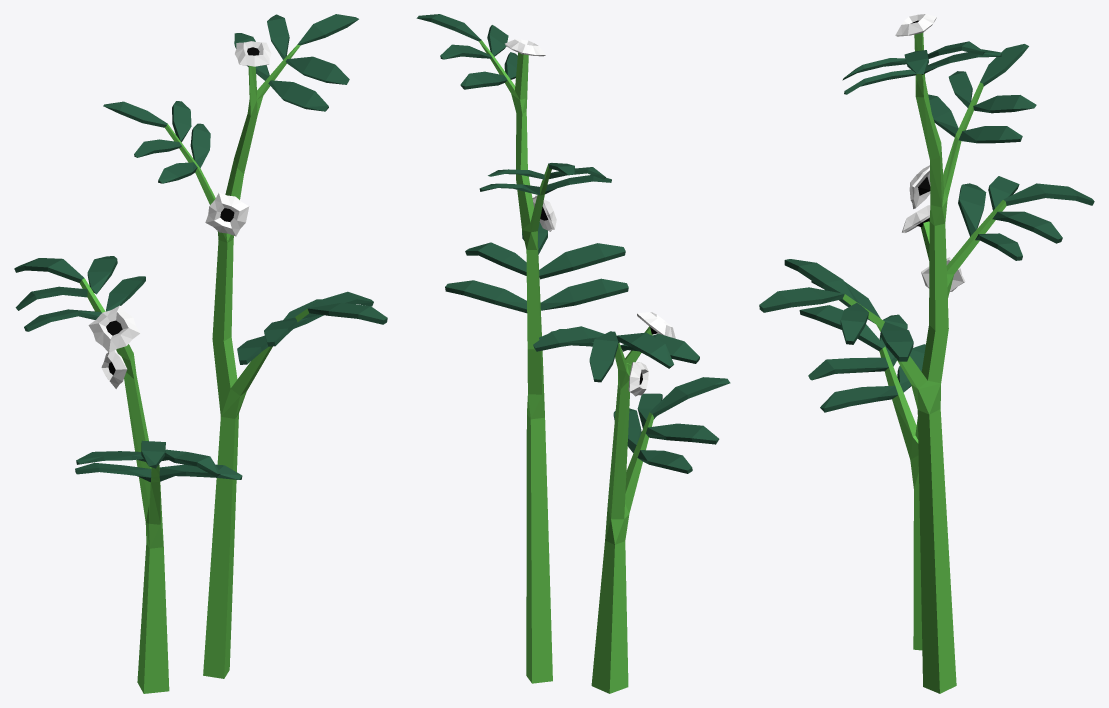
The model's file is Pootato_Growing_M.fbx.
The picture shows the model from 3 angles, left to right: view 1: azimuth 30°, elevation 25°; view 2: azimuth 150°, elevation 25°; view 3: azimuth 270°, elevation 25°; orthographic projection. The views are drawn at different scales.
Parts seen in each view (by area): view 1: Pootato_Growing_M; view 2: Pootato_Growing_M; view 3: Pootato_Growing_M.
Part boxes in pixels (x1,y1,x2,y2): Pootato_Growing_M: (14, 14, 387, 693); Pootato_Growing_M: (416, 14, 730, 693); Pootato_Growing_M: (759, 14, 1094, 693).
Bounding box in the file's own units: 18.3 × 36.03 × 15.9.
